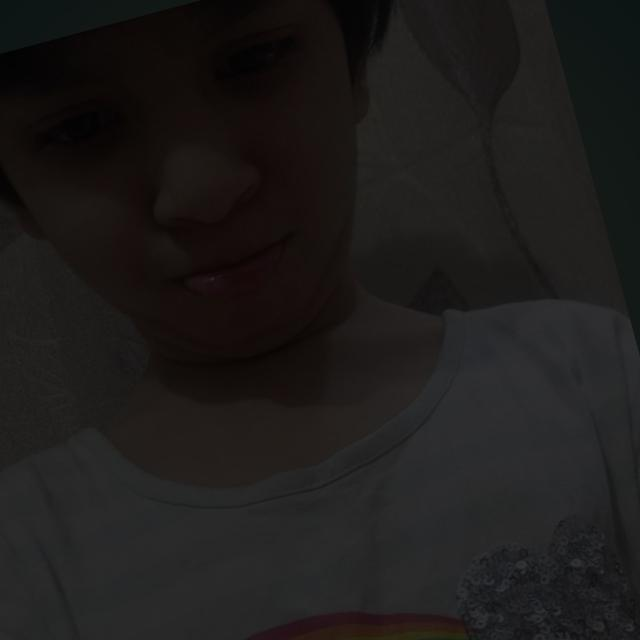sad: (0, 0, 431, 339)
